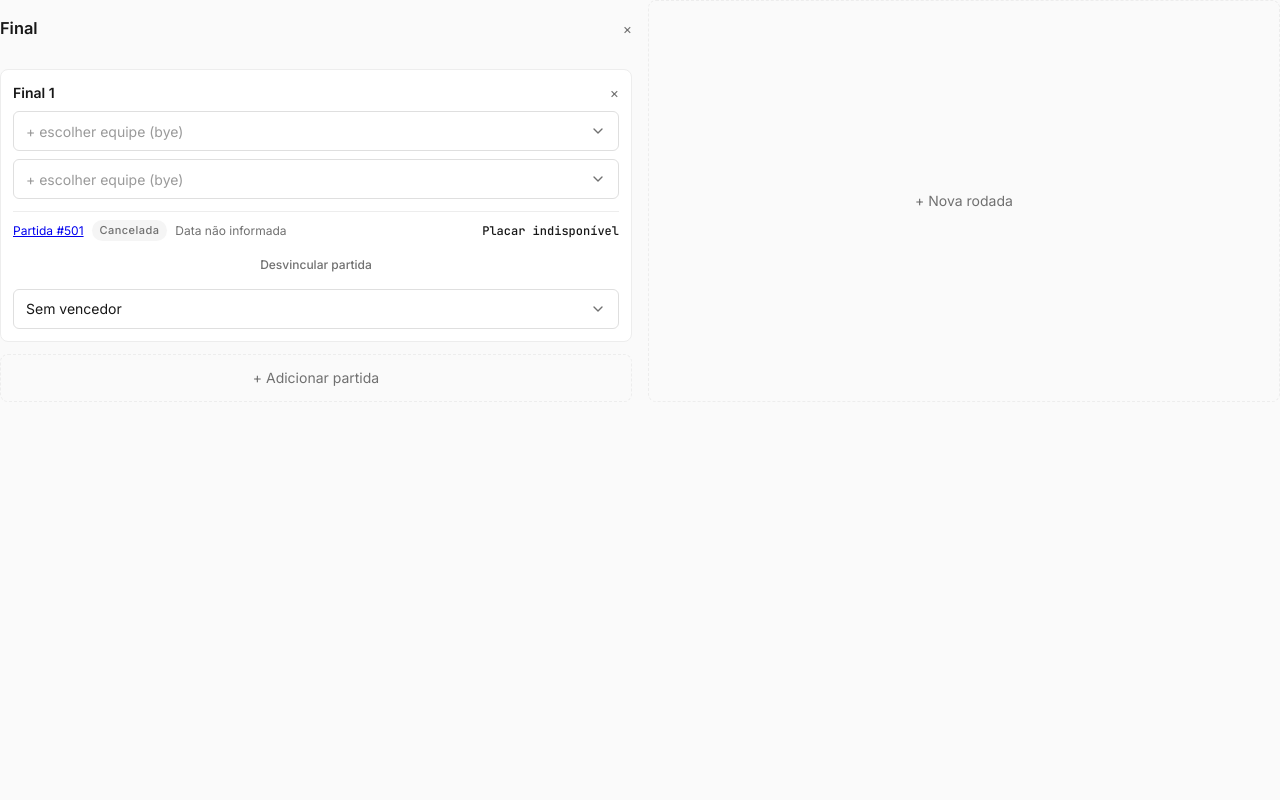
Test: BracketTab › linking and unlinking matches › confirms with the lighter copy when unlinking an already cancelled match
This screenshot has width=1280, height=800.
What coordinates should you click on to do the following:
click the button "Desvincular partida"
I would click on:
 (316, 265)
Its box is [13,249,619,281].
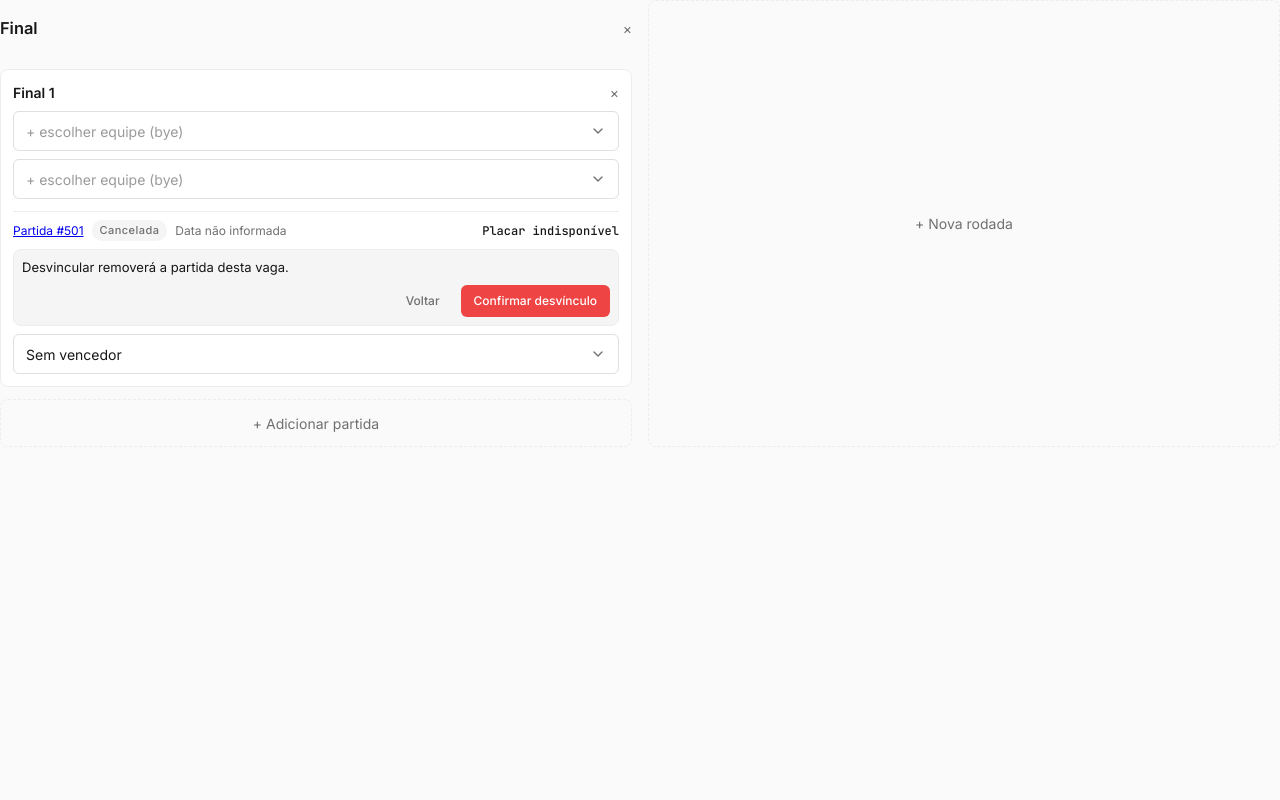
expect the dialog shows "Desvincular removerá a partida desta vaga.": met, box [22,259,289,275]
